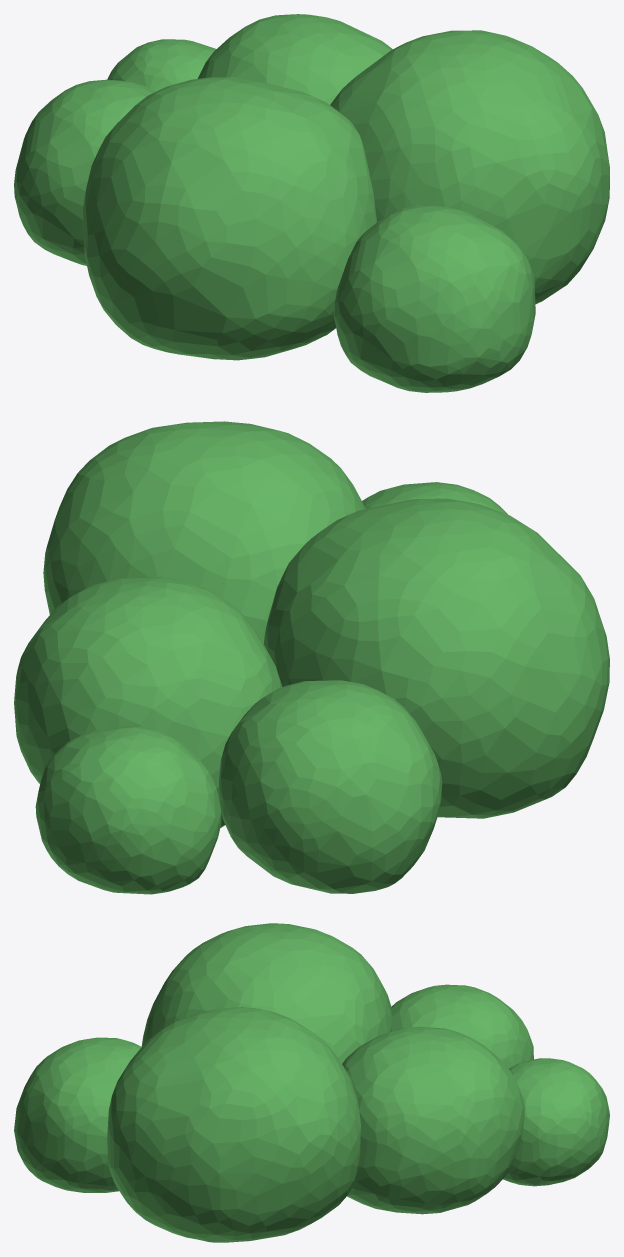
Rendered from arbustoPeqVarios2.glb.
3 renders of one model, top to bottom at view 1: azimuth 30°, elevation 25°; view 2: azimuth 150°, elevation 25°; view 3: azimuth 270°, elevation 25°, orthographic. The views are drawn at different scales.
Parts seen in each view (by area): view 1: Icosphere.004; view 2: Icosphere.004; view 3: Icosphere.004.
Boxes of the visible parts, bbox=[...] form: Icosphere.004: bbox=[14, 14, 609, 392]; Icosphere.004: bbox=[14, 421, 609, 894]; Icosphere.004: bbox=[14, 923, 609, 1242].
Size of the model in its own units: 0.4457 by 0.22 by 0.5755.
